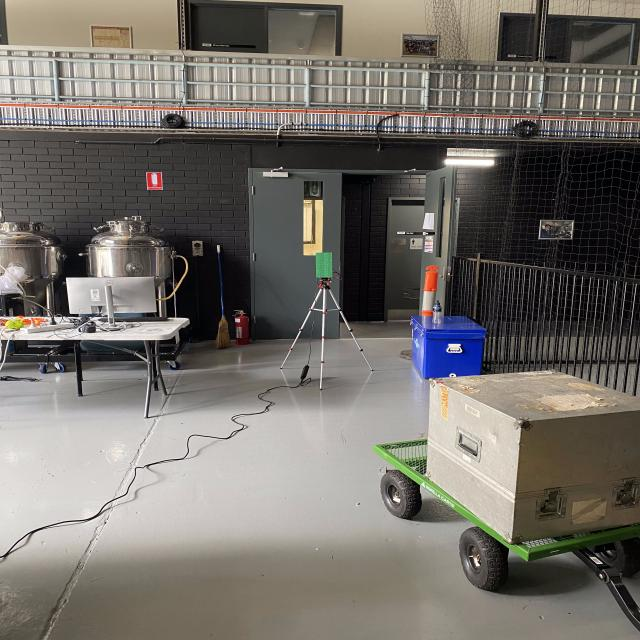matrix: (314, 250, 336, 279)
